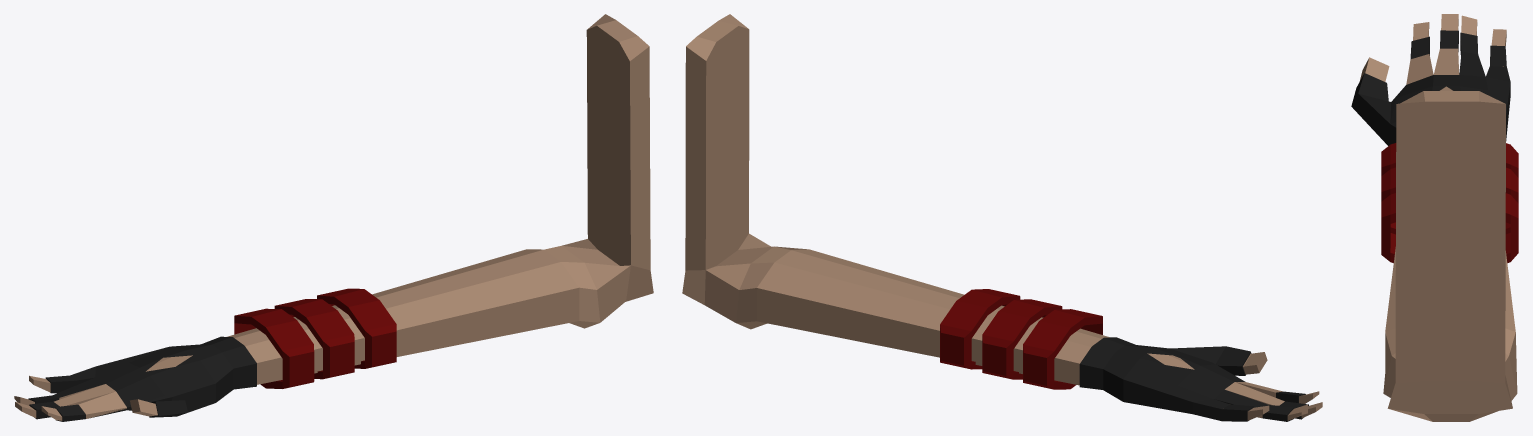
Rendered from LHand.fbx.
3 views of the same model, side by side, from view 1: azimuth 30°, elevation 25°; view 2: azimuth 150°, elevation 25°; view 3: azimuth 270°, elevation 25° (orthographic). The views are drawn at different scales.
Visible parts, largest first — view 1: Cube, Cube.001, Cube.003, Cube.002, Cube.004; view 2: Cube, Cube.001, Cube.003, Cube.002, Cube.004; view 3: Cube, Cube.001, Cube.002, Cube.004, Cube.003.
Part boxes in pixels (bbox=[...]): Cube: bbox=[14, 14, 653, 420]; Cube.001: bbox=[28, 336, 256, 421]; Cube.003: bbox=[234, 308, 314, 388]; Cube.002: bbox=[317, 288, 396, 368]; Cube.004: bbox=[274, 299, 354, 379]; Cube: bbox=[682, 14, 1322, 420]; Cube.001: bbox=[1079, 337, 1308, 421]; Cube.003: bbox=[1023, 309, 1102, 389]; Cube.002: bbox=[940, 289, 1020, 369]; Cube.004: bbox=[982, 299, 1062, 379]; Cube: bbox=[1359, 14, 1517, 421]; Cube.001: bbox=[1351, 30, 1510, 145]; Cube.002: bbox=[1381, 193, 1518, 263]; Cube.004: bbox=[1381, 167, 1518, 234]; Cube.003: bbox=[1381, 143, 1518, 177].
Bounding box in the file's own units: 4269 × 1863 × 815.
